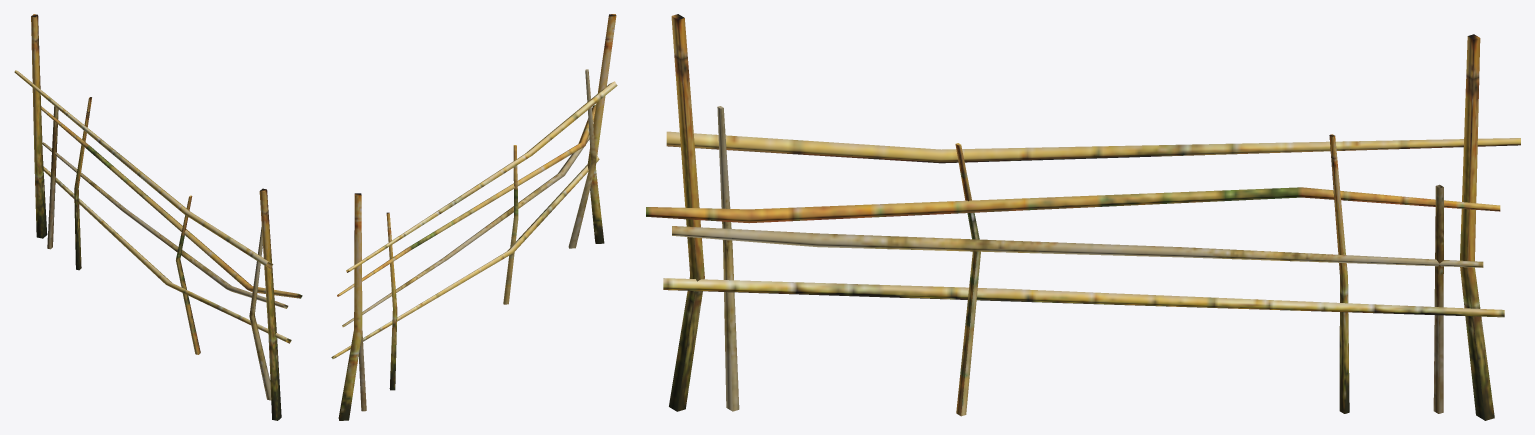
Rendered from bambooFence1.fbx.
3 views of the same model, side by side, from view 1: azimuth 30°, elevation 25°; view 2: azimuth 150°, elevation 25°; view 3: azimuth 270°, elevation 25° (orthographic). The views are drawn at different scales.
Parts seen in each view (by area): view 1: fence1; view 2: fence1; view 3: fence1.
Part boxes in pixels (box(x1,y1,x2,y2)): fence1: box(14, 14, 302, 420); fence1: box(331, 14, 617, 420); fence1: box(646, 14, 1520, 420).
Size of the model in its own units: 0.2969 by 1.91 by 3.98.
